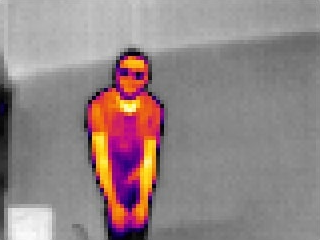human: (84, 48, 164, 240)
